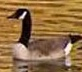goose: (4, 5, 82, 67)
